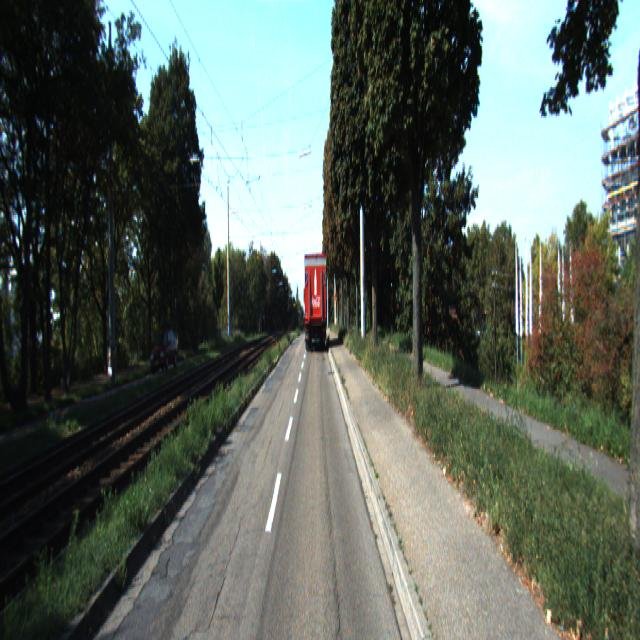Car: (150, 329, 180, 377)
Truck: (301, 250, 327, 352)
